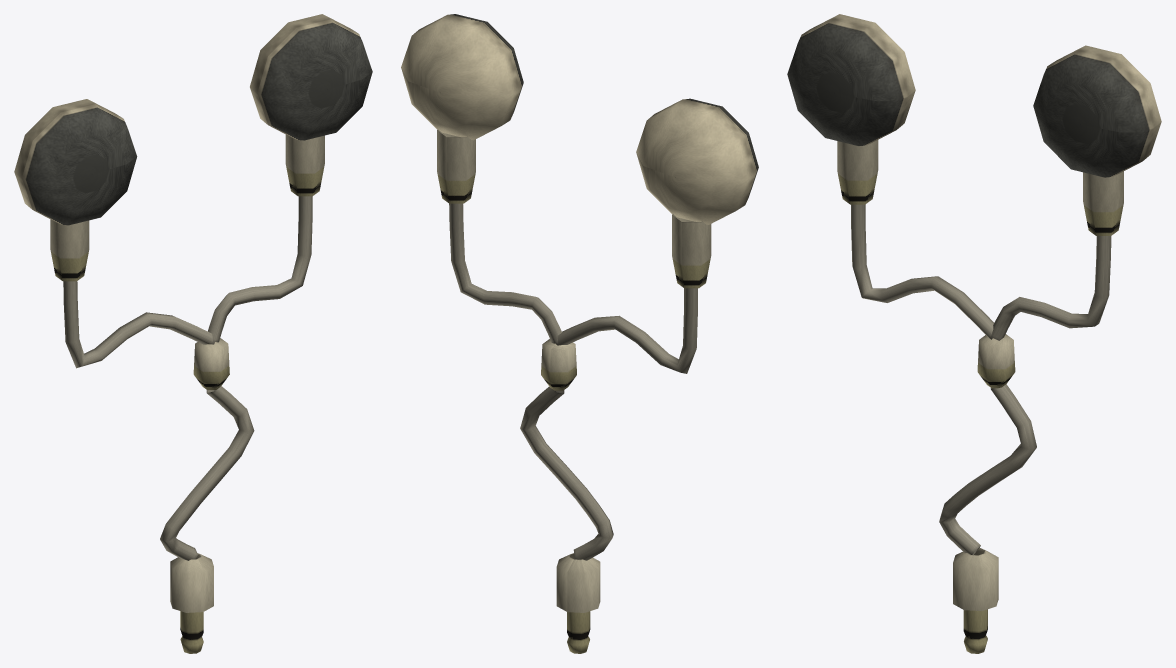
The model's file is budget-earbuds.obj.
3 renders of one model, left to right at view 1: azimuth 30°, elevation 25°; view 2: azimuth 150°, elevation 25°; view 3: azimuth 330°, elevation 25°, orthographic. The views are drawn at different scales.
Size of the model in its own units: 0.0532 by 0.0882 by 0.0102.
Materials: 1 (1 with a texture image).
